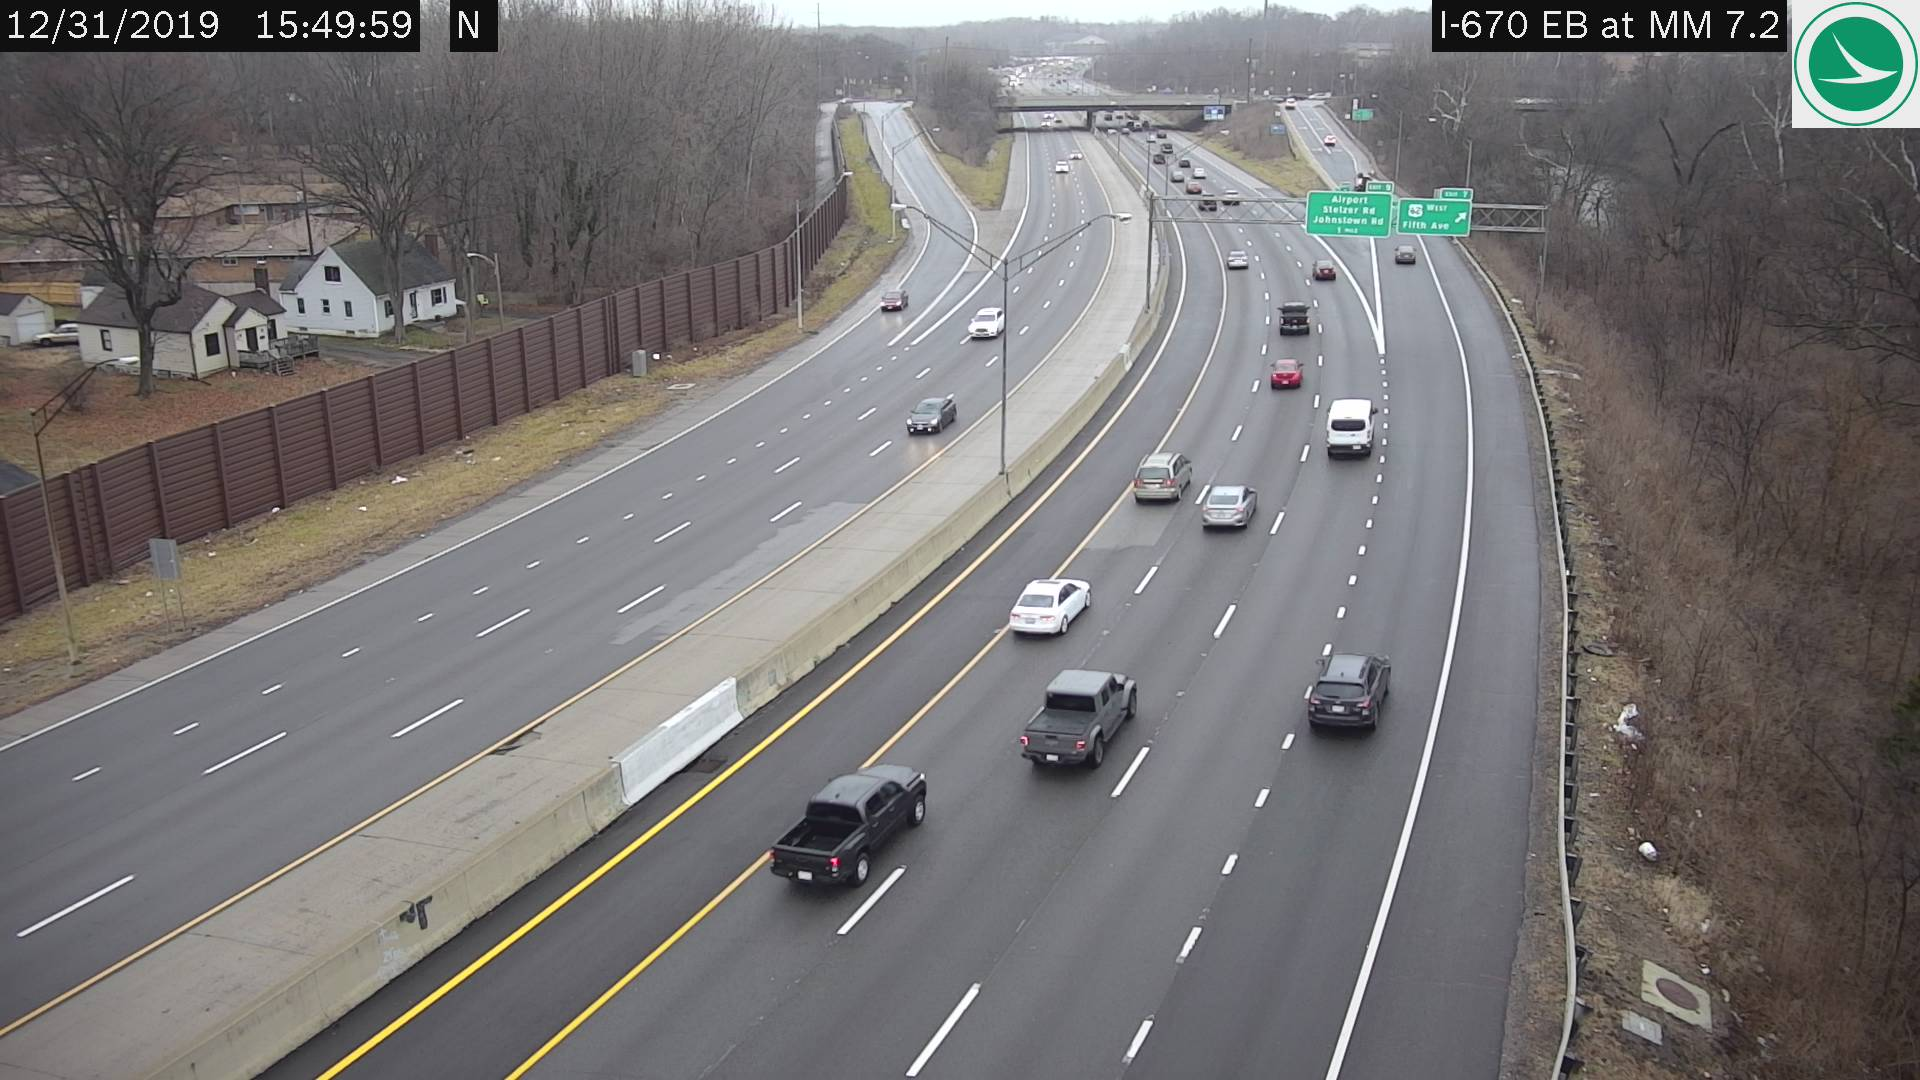car: (770, 760, 926, 887), (1018, 669, 1134, 775), (1305, 651, 1390, 732), (1010, 580, 1091, 636), (1327, 396, 1374, 456), (1134, 452, 1189, 504), (1197, 484, 1258, 527), (906, 396, 957, 436), (968, 305, 1004, 340), (1278, 301, 1309, 332), (1270, 356, 1298, 388), (881, 287, 909, 310), (1311, 257, 1333, 280), (1226, 247, 1247, 266), (1396, 245, 1416, 265)
